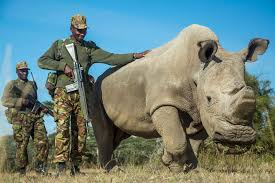Rhinoceros: (109, 13, 271, 178)
